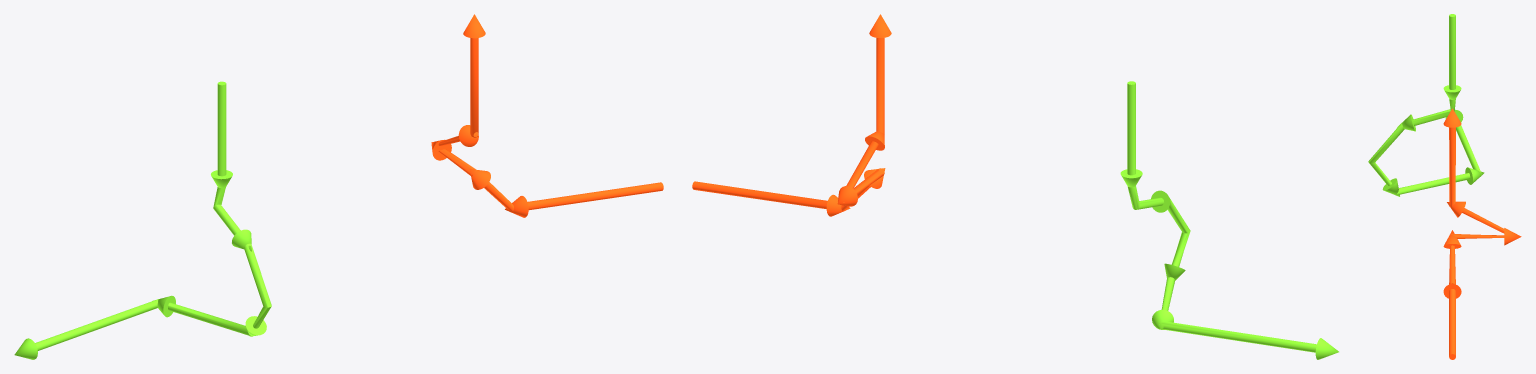
Rendered from expander_turbine_flow.glb.
3 views of the same model, side by side, from view 1: azimuth 30°, elevation 25°; view 2: azimuth 150°, elevation 25°; view 3: azimuth 270°, elevation 25° (orthographic). The views are drawn at different scales.
Visible parts, largest first — view 1: expander_gas, compressor_gas; view 2: expander_gas, compressor_gas; view 3: expander_gas, compressor_gas.
Boxes of the visible parts, x1,y1,x2,y2 form: expander_gas: (14, 81, 271, 359); compressor_gas: (431, 14, 663, 217); expander_gas: (1120, 81, 1338, 359); compressor_gas: (692, 14, 891, 216); expander_gas: (1368, 14, 1484, 196); compressor_gas: (1443, 108, 1521, 359).
Size of the model in its own units: 1.39 by 0.4872 by 0.3537.
